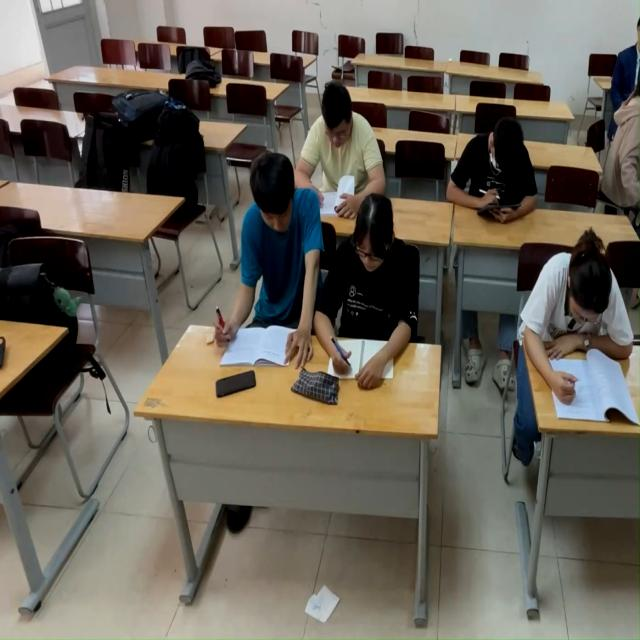read: (215, 149, 333, 372), (309, 197, 438, 392), (508, 233, 640, 423), (442, 106, 544, 228), (304, 89, 380, 221)
